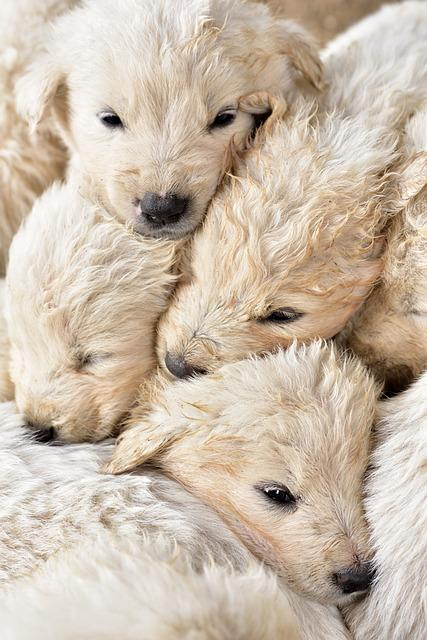Non_Gorille: (5, 0, 416, 640)
